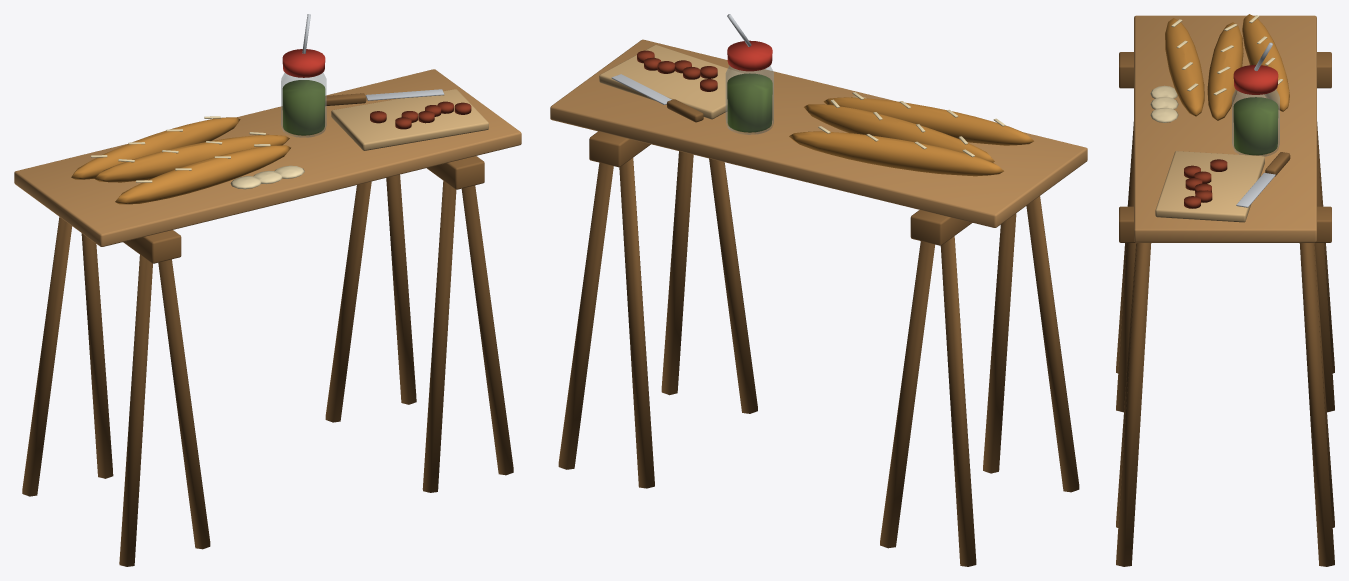
The model's file is prop_tablon.glb.
The picture shows the model from 3 angles, left to right: view 1: azimuth 30°, elevation 25°; view 2: azimuth 150°, elevation 25°; view 3: azimuth 270°, elevation 25°; orthographic projection. The views are drawn at different scales.
Visible parts, largest first — view 1: prop_tablon; view 2: prop_tablon; view 3: prop_tablon.
Part boxes in pixels (<box>): prop_tablon: <box>14,14,521,566</box>; prop_tablon: <box>550,14,1087,566</box>; prop_tablon: <box>1116,14,1334,566</box>.
Size of the model in its own units: 1 by 0.9938 by 0.4311.
